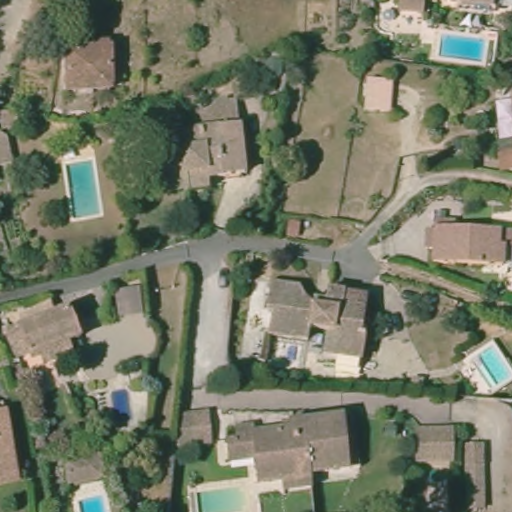pool: (55, 147, 107, 225), (434, 26, 494, 74), (468, 333, 512, 393), (194, 481, 264, 512), (100, 379, 136, 430), (77, 490, 115, 512)
